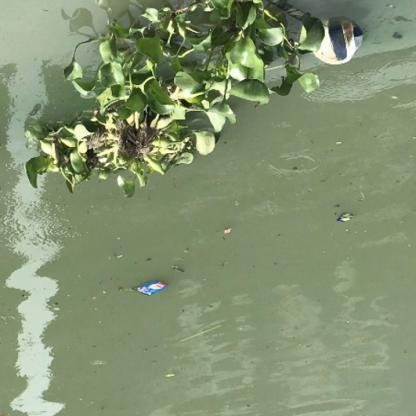Trash: (309, 16, 364, 70), (132, 278, 168, 301), (335, 209, 354, 225)
